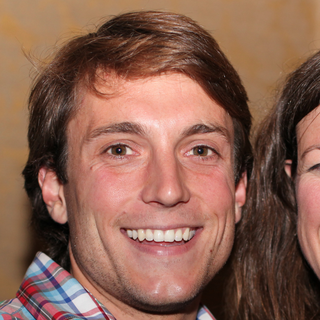eye: (96, 139, 143, 164), (179, 140, 223, 164)
